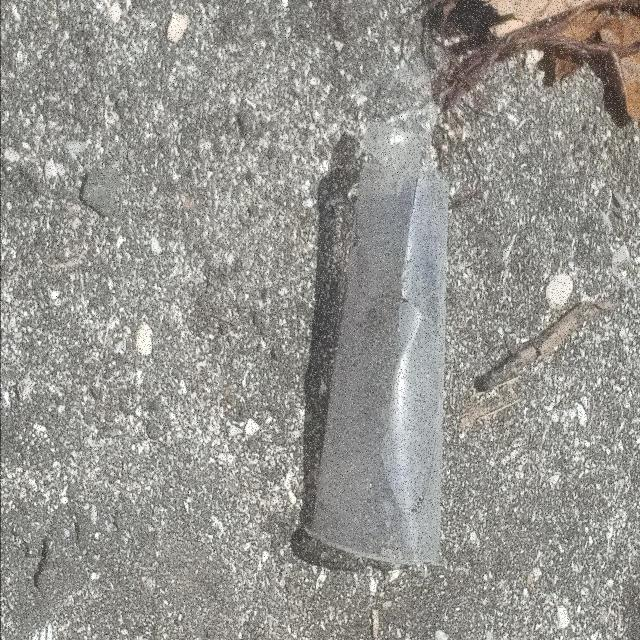plastic_waste: (303, 161, 450, 569)
